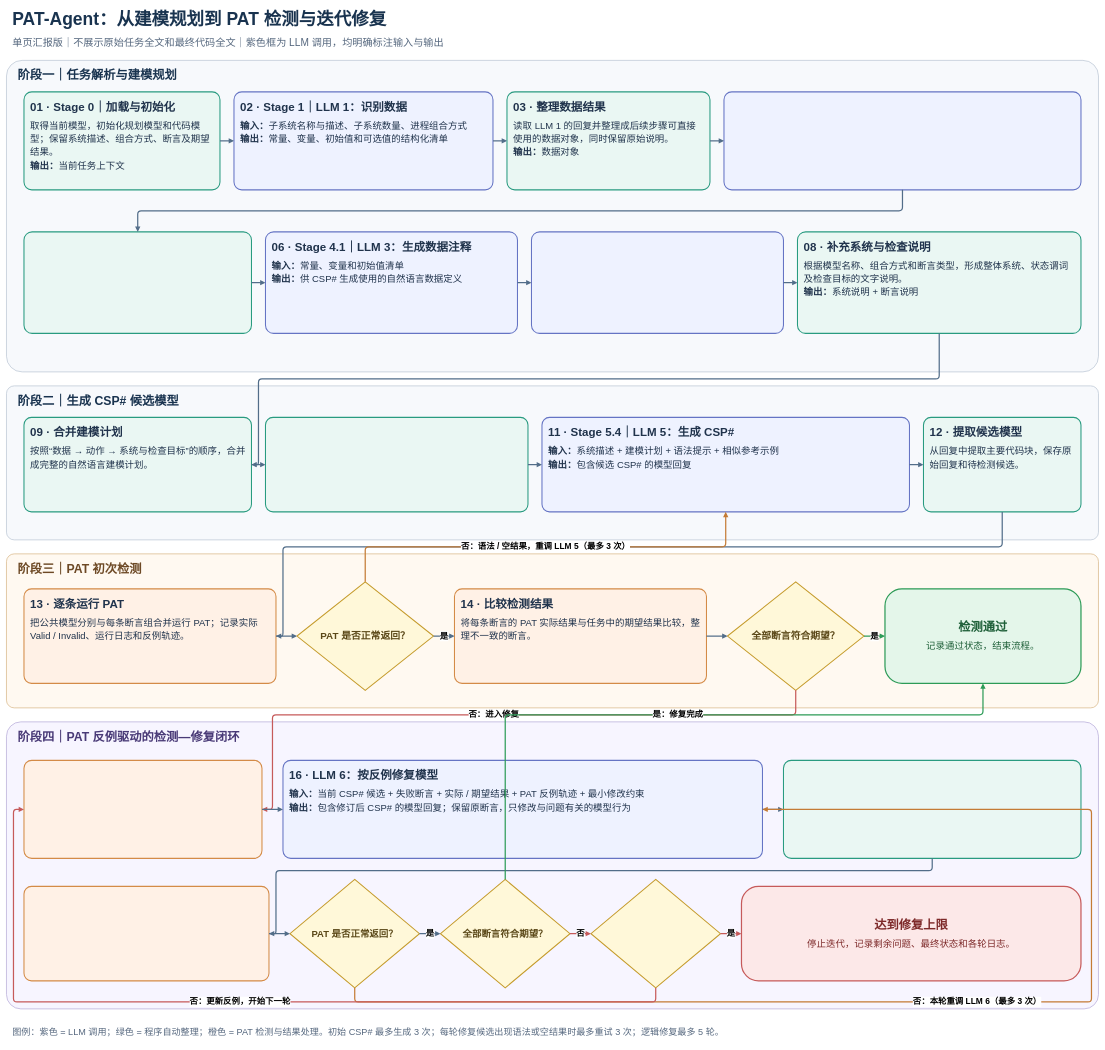
This 1105x1050 diagram has some shape labels left out. Here are the shapes that lost their labels. From the top down, the box of each, then its label:
(723, 91, 1081, 190): 04 · Stage 2｜LLM 2：识别动作 输入： 系统行为描述 + 已识别的常量和变量 输出： 各动作的触发条件、事件名称和执行后的状态变化
(23, 231, 252, 334): 05 · Stage 3｜准备后续材料 整理动作结果，并取得待检测断言及其期望结果。 输出： 动作说明 + 检查要求
(531, 231, 784, 334): 07 · Stage 4.2｜LLM 4：生成动作注释 输入： 动作、条件和状态变化清单 输出： 逐项描述动作语义的自然语言说明
(265, 417, 528, 512): 10 · 检索知识并组装请求 检索相似的已知模型，读取 CSP# 通用规则和语法提示，再与系统描述、建模计划组合。 输出： 完整生成提示
(23, 760, 262, 859): 15 · 整理失败证据 保存失败断言、实际结果、期望结果和 PAT 反例轨迹，并转成可读的修复建议。
(783, 760, 1081, 859): 17 · 提取修复候选 提取修订后的主要代码块，保存本轮原始回复和修复候选。
(23, 886, 269, 981): 18 · PAT 复检修复候选 再次逐条运行 PAT，生成本轮检测结果和新的反例轨迹。
(590, 879, 721, 988): 仍不匹配，并且已完成 5 轮修复？
